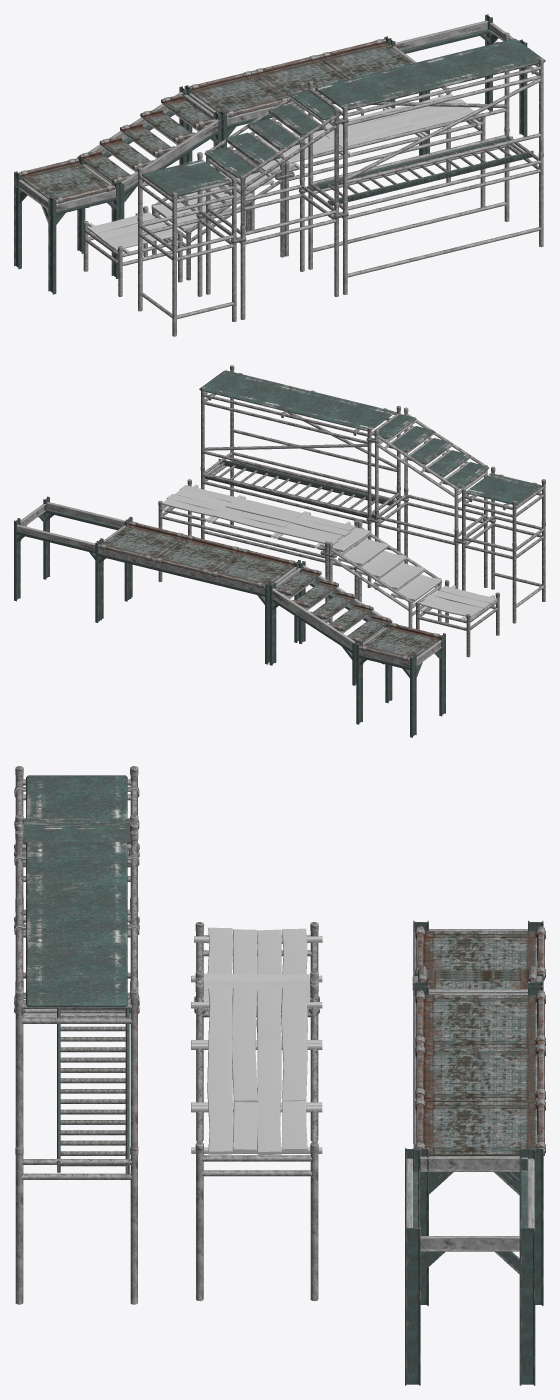
File: scaffold_set.fbx
3 renders of one model, top to bottom at view 1: azimuth 30°, elevation 25°; view 2: azimuth 150°, elevation 25°; view 3: azimuth 270°, elevation 25°, orthographic. The views are drawn at different scales.
Parts seen in each view (by area): view 1: ind_scaffold_02_platform_01_inst_001, ind_scaffold_02_stair_inst_001, ind_scaffold_01_stair_inst_001, ind_scaffold_01_frame_02_inst_001, ind_scaffold_01_platform_01_inst_001, ind_scaffold_01_frame_03_inst_001, ind_scaffold_01_platform_01_wood_inst_001, ind_scaffold_01_stair_frame_01_inst_001, ind_scaffold_01_short_01_inst_001, ind_scaffold_02_short_01_inst_001, ind_scaffold_01_stair_wood_inst_001, ind_scaffold_ladder_01_inst_001 (+8 smaller); view 2: ind_scaffold_02_platform_01_inst_001, ind_scaffold_02_stair_inst_001, ind_scaffold_01_stair_inst_001, ind_scaffold_01_stair_wood_inst_001, ind_scaffold_01_platform_01_inst_001, ind_scaffold_01_platform_01_wood_inst_001, ind_scaffold_01_frame_03_inst_001, ind_scaffold_01_frame_02_inst_001, ind_scaffold_02_frame_stair_inst_001, ind_scaffold_02_frame_01_inst_001, ind_scaffold_02_short_01_inst_001, ind_scaffold_01_short_01_inst_001 (+8 smaller); view 3: ind_scaffold_02_platform_01_inst_001, ind_scaffold_01_platform_01_wood_inst_001, ind_scaffold_01_platform_01_inst_001, ind_scaffold_02_frame_stair_inst_001, ind_scaffold_01_frame_01_inst_001, ind_scaffold_ladder_01_inst_001, ind_scaffold_01_frame_03_inst_001, ind_scaffold_02_platform_01_small_inst_001, ind_scaffold_01_platform_01_wood_small_inst_001, ind_scaffold_01_platform_01_small_inst_001, ind_scaffold_01_frame_02_inst_001, ind_scaffold_02_frame_01_inst_001 (+5 smaller).
Part boxes in pixels (box(x1,y1,x2,y2)): ind_scaffold_02_platform_01_inst_001: box(188, 38, 412, 117); ind_scaffold_02_stair_inst_001: box(79, 86, 221, 219); ind_scaffold_01_stair_inst_001: box(204, 82, 346, 226); ind_scaffold_01_frame_02_inst_001: box(298, 127, 543, 294); ind_scaffold_01_platform_01_inst_001: box(315, 38, 545, 115); ind_scaffold_01_frame_03_inst_001: box(308, 32, 543, 201); ind_scaffold_01_platform_01_wood_inst_001: box(260, 93, 480, 169); ind_scaffold_01_stair_frame_01_inst_001: box(196, 177, 339, 319); ind_scaffold_01_short_01_inst_001: box(137, 202, 236, 336); ind_scaffold_02_short_01_inst_001: box(14, 156, 119, 294); ind_scaffold_01_stair_wood_inst_001: box(151, 149, 294, 280); ind_scaffold_ladder_01_inst_001: box(307, 136, 533, 205); ind_scaffold_02_platform_01_inst_001: box(97, 521, 296, 588); ind_scaffold_02_stair_inst_001: box(269, 561, 390, 685); ind_scaffold_01_stair_inst_001: box(372, 407, 488, 529); ind_scaffold_01_stair_wood_inst_001: box(320, 521, 441, 627); ind_scaffold_01_platform_01_inst_001: box(199, 370, 394, 435); ind_scaffold_01_platform_01_wood_inst_001: box(162, 484, 355, 548); ind_scaffold_01_frame_03_inst_001: box(200, 365, 400, 508); ind_scaffold_01_frame_02_inst_001: box(200, 446, 408, 587); ind_scaffold_02_frame_stair_inst_001: box(14, 496, 132, 621); ind_scaffold_02_frame_01_inst_001: box(95, 518, 300, 664); ind_scaffold_02_short_01_inst_001: box(356, 620, 445, 737); ind_scaffold_01_short_01_inst_001: box(461, 509, 545, 623); ind_scaffold_02_platform_01_inst_001: box(415, 990, 545, 1155); ind_scaffold_01_platform_01_wood_inst_001: box(191, 987, 322, 1154); ind_scaffold_01_platform_01_inst_001: box(14, 842, 139, 1007); ind_scaffold_02_frame_stair_inst_001: box(405, 1147, 535, 1385); ind_scaffold_01_frame_01_inst_001: box(194, 983, 319, 1301); ind_scaffold_ladder_01_inst_001: box(57, 999, 129, 1174); ind_scaffold_01_frame_03_inst_001: box(14, 830, 139, 1148); ind_scaffold_02_platform_01_small_inst_001: box(415, 926, 545, 980); ind_scaffold_01_platform_01_wood_small_inst_001: box(191, 927, 322, 982); ind_scaffold_01_platform_01_small_inst_001: box(14, 775, 139, 828); ind_scaffold_01_frame_02_inst_001: box(14, 987, 139, 1304); ind_scaffold_02_frame_01_inst_001: box(413, 985, 543, 1306).
Bounding box in the file's own units: 13.83 × 6.51 × 8.12.
